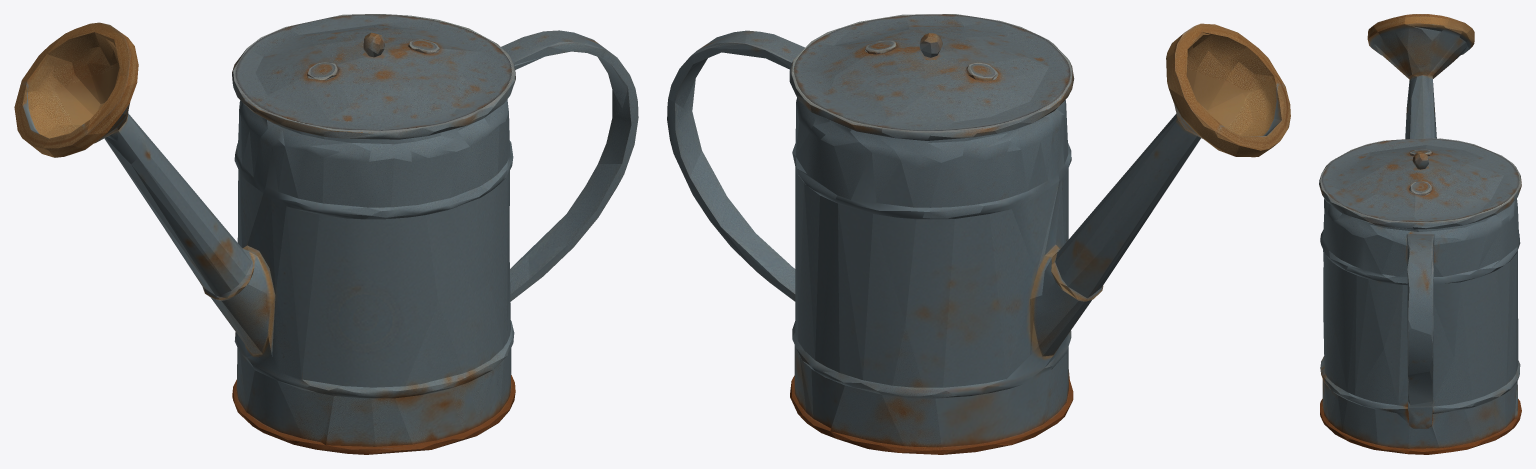
Rendered from watering_can.glb.
3 views of the same model, side by side, from view 1: azimuth 30°, elevation 25°; view 2: azimuth 150°, elevation 25°; view 3: azimuth 270°, elevation 25° (orthographic). The views are drawn at different scales.
Bounding box in the file's own units: 1.9 × 1.3 × 0.7749.
Materials: 1 (1 with a texture image).
